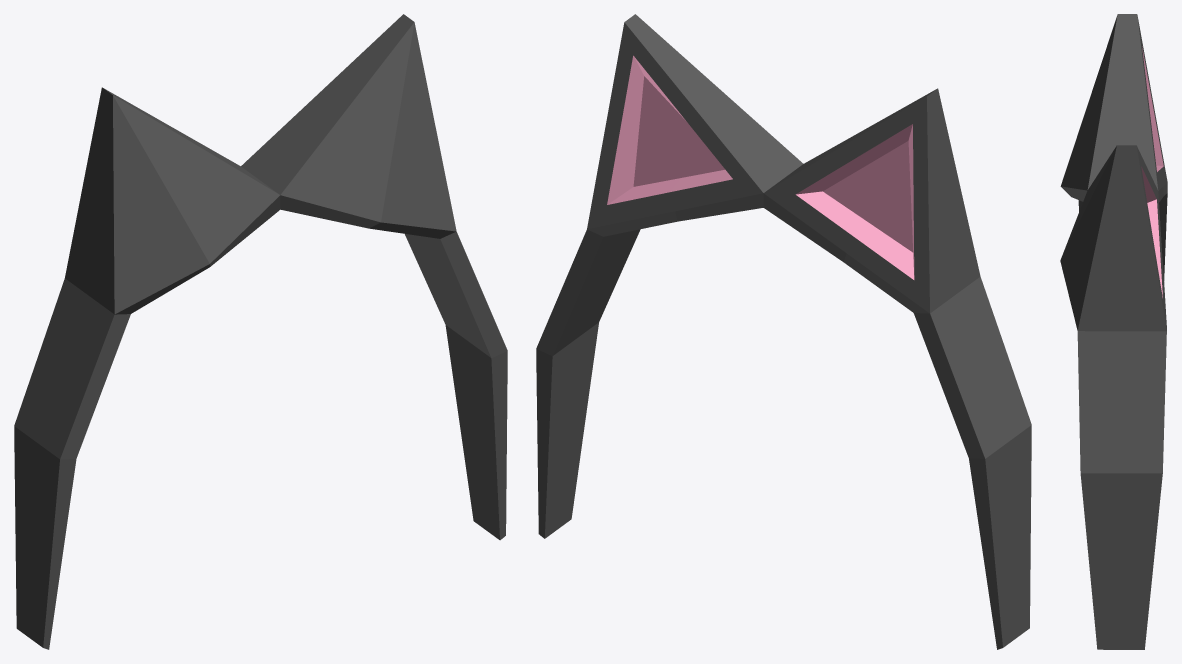
The model's file is cat.fbx.
3 views of the same model, side by side, from view 1: azimuth 30°, elevation 25°; view 2: azimuth 150°, elevation 25°; view 3: azimuth 270°, elevation 25° (orthographic). The views are drawn at different scales.
Parts seen in each view (by area): view 1: Cat_Ears_01; view 2: Cat_Ears_01; view 3: Cat_Ears_01.
Boxes of the visible parts, x1=… form: Cat_Ears_01: x1=14, y1=14, x2=507, y2=649; Cat_Ears_01: x1=536, y1=14, x2=1031, y2=649; Cat_Ears_01: x1=1060, y1=14, x2=1167, y2=649.
Size of the model in its own units: 16.84 by 18.4 by 3.8.
